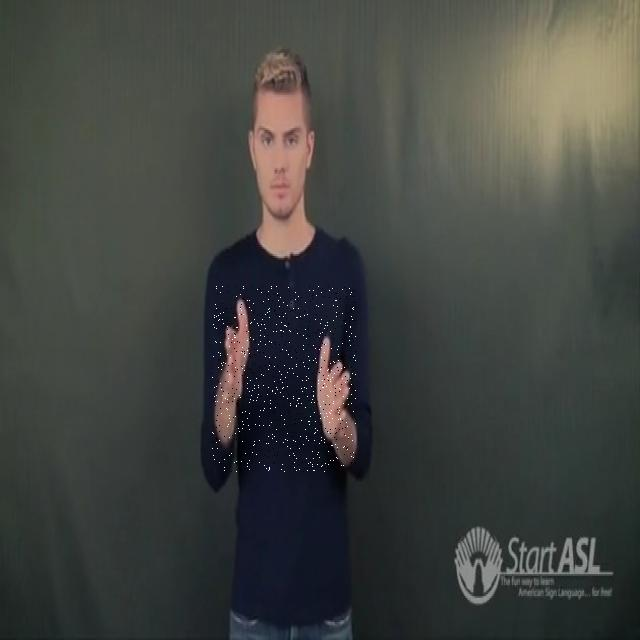manager: (212, 286, 356, 472)
